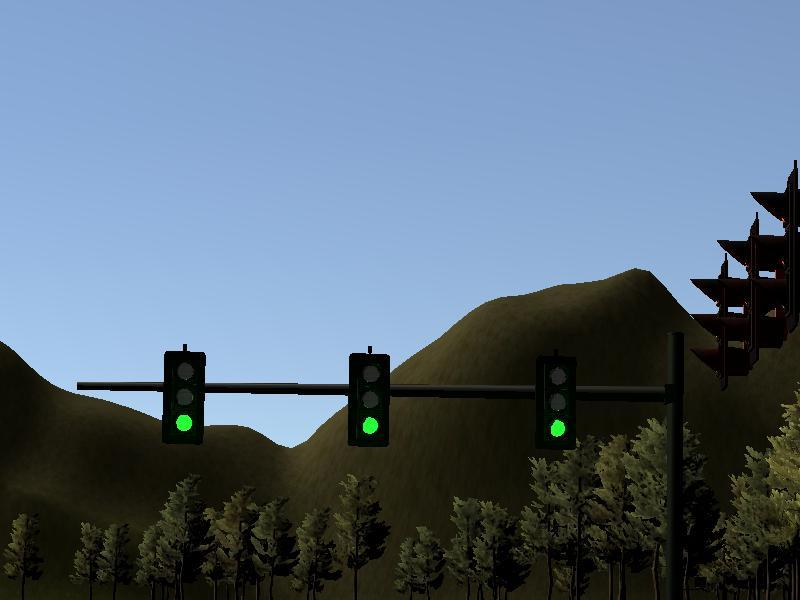Green: (162, 351, 204, 446), (534, 353, 576, 448), (347, 352, 389, 447)
